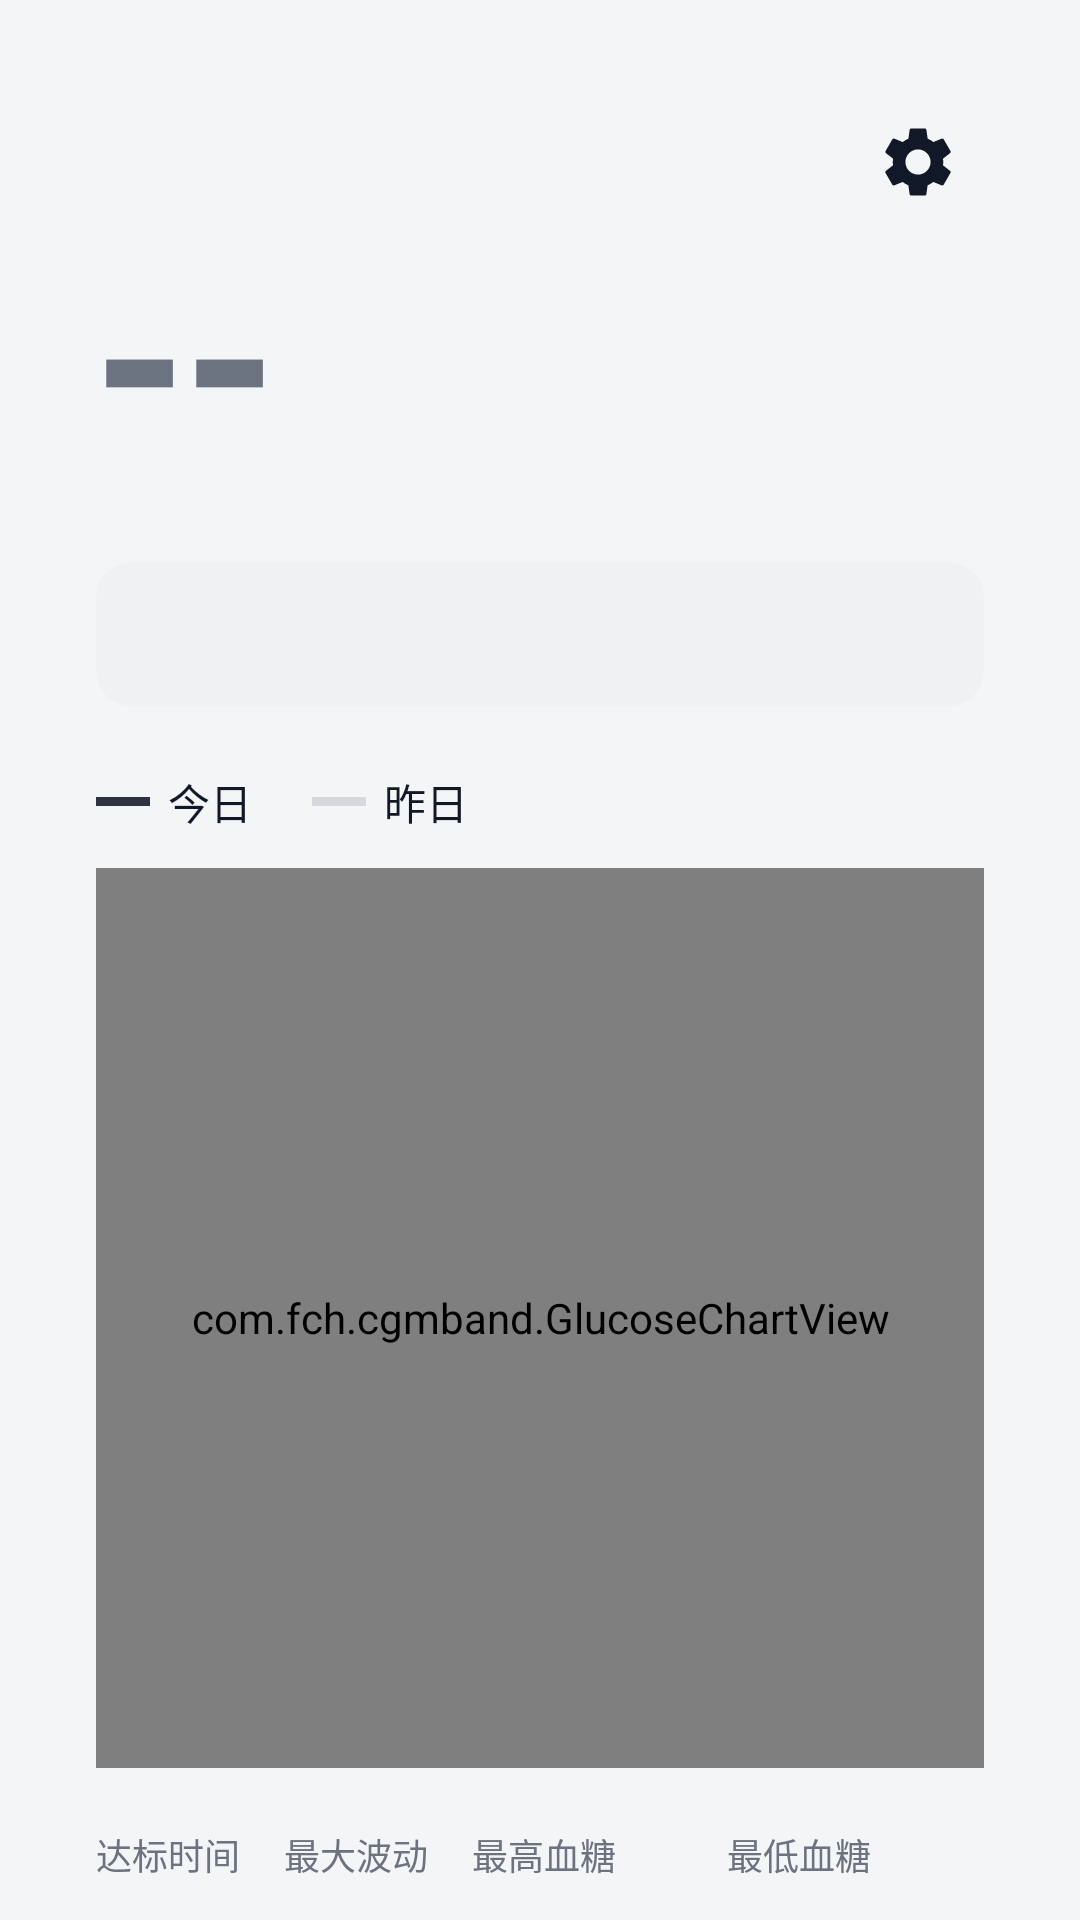

Where to tap for icons on this 1080w x 1920h app screen, as [x,y]:
设置: [918,162]
